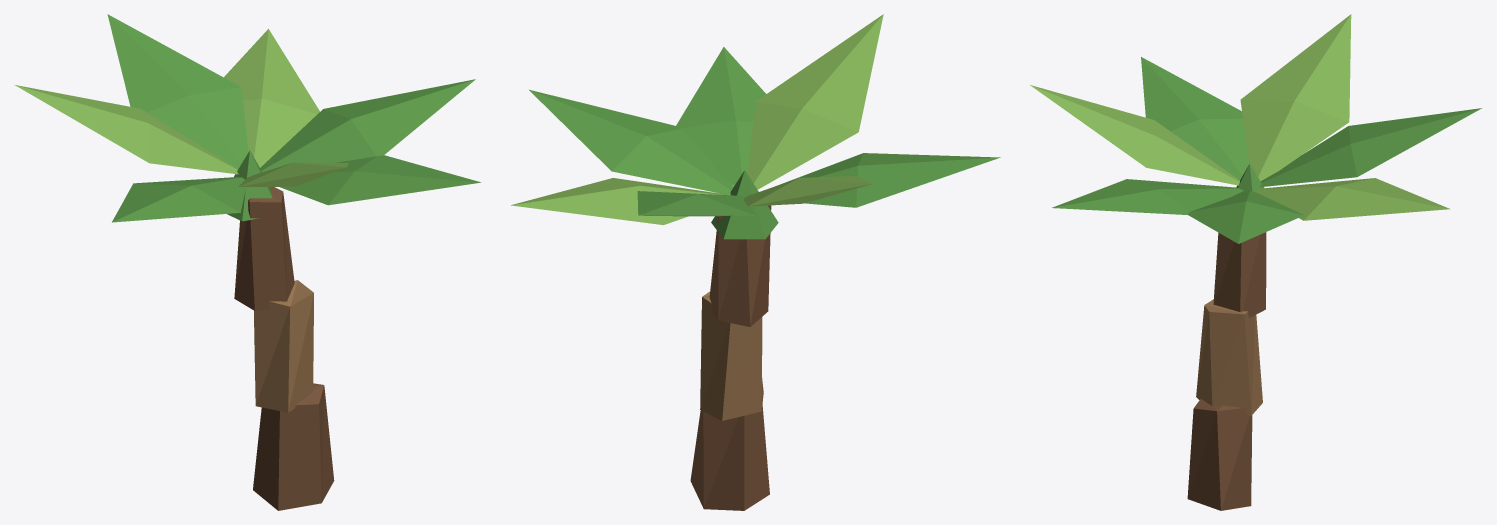
File: world_tree_cycad_m.obj
3 views of the same model, side by side, from view 1: azimuth 30°, elevation 25°; view 2: azimuth 150°, elevation 25°; view 3: azimuth 270°, elevation 25° (orthographic). The views are drawn at different scales.
Visible parts, largest first — view 1: world_tree_cycad_m; view 2: world_tree_cycad_m; view 3: world_tree_cycad_m.
Boxes of the visible parts, x1=… form: world_tree_cycad_m: x1=15, y1=14, x2=481, y2=510; world_tree_cycad_m: x1=511, y1=14, x2=1000, y2=510; world_tree_cycad_m: x1=1030, y1=14, x2=1481, y2=510.
Size of the model in its own units: 9.21 by 8.85 by 9.24.
